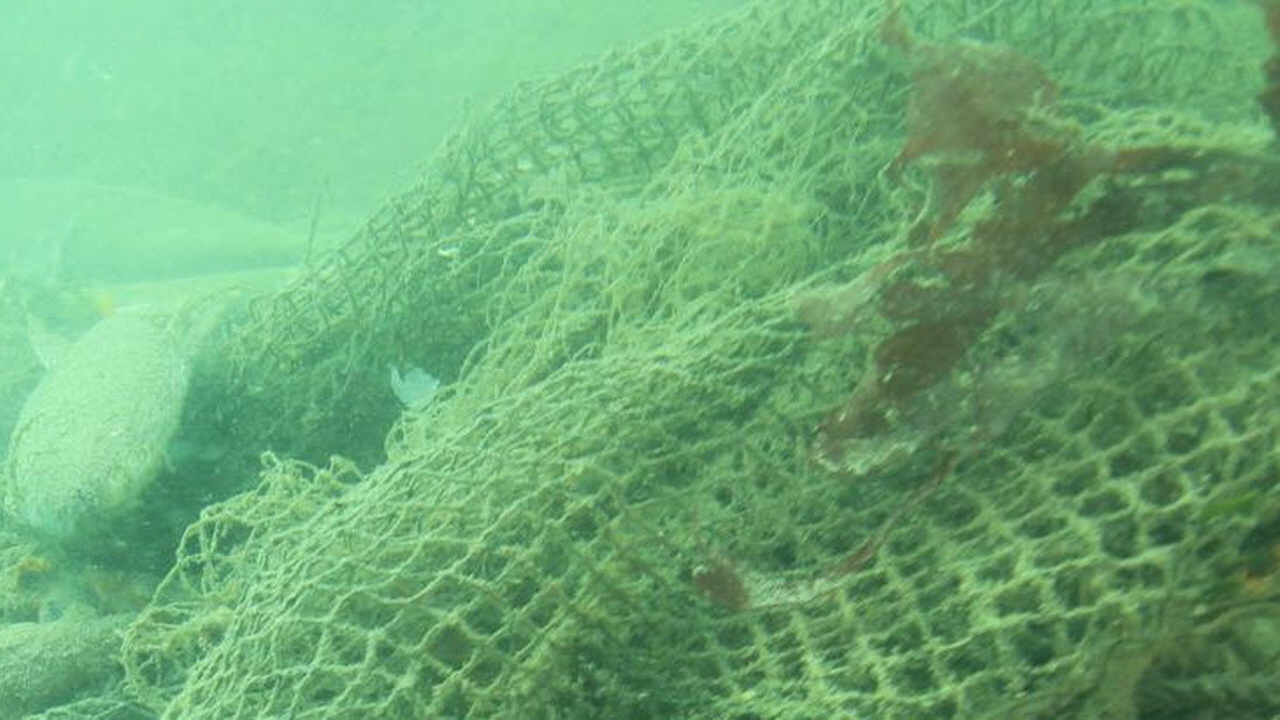fish net: (123, 0, 1280, 720)
